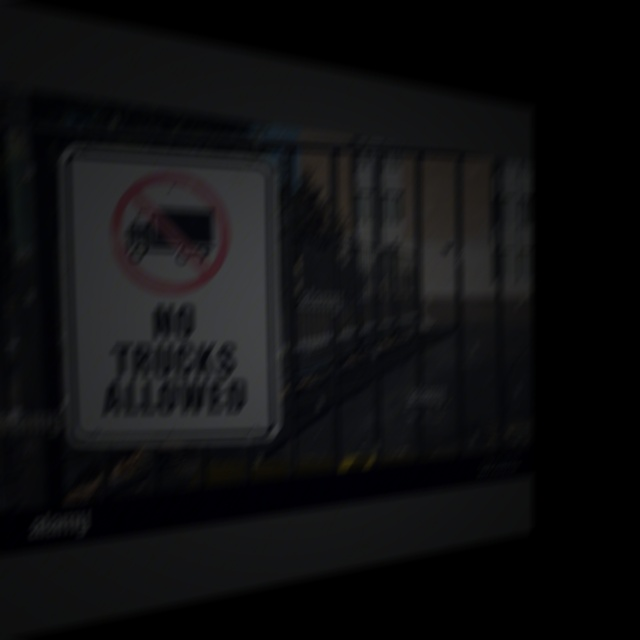Truck_Prohibited: (102, 155, 234, 303)
